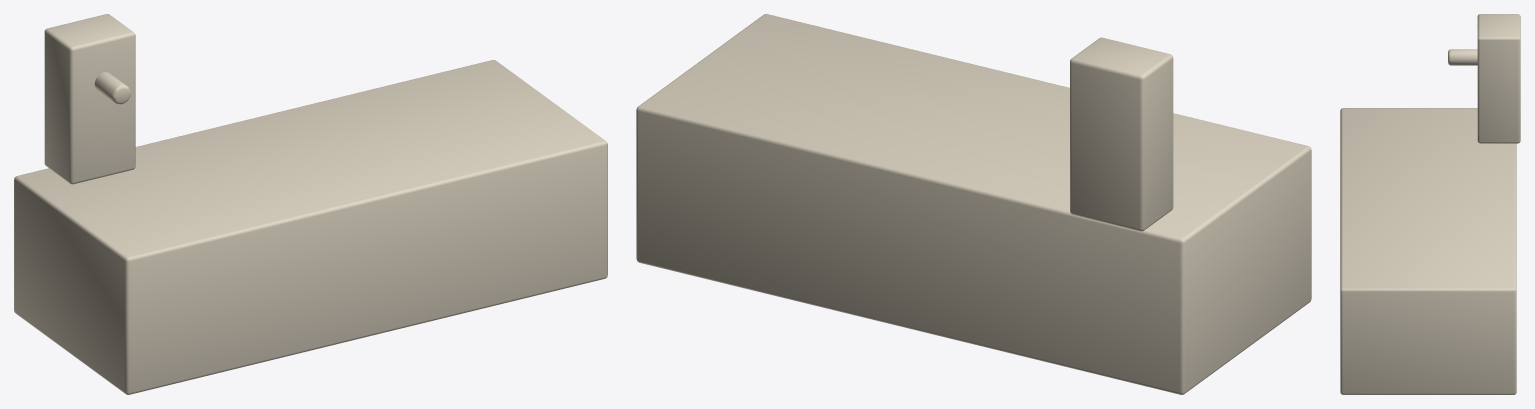
File: th6_brunnen_trog.glb
3 views of the same model, side by side, from view 1: azimuth 30°, elevation 25°; view 2: azimuth 150°, elevation 25°; view 3: azimuth 270°, elevation 25° (orthographic). The views are drawn at different scales.
Visible parts, largest first — view 1: Cube, Cube.002, Cylinder; view 2: Cube, Cube.002; view 3: Cube, Cube.002, Cylinder.
Part boxes in pixels (x1=…): Cube: x1=14, y1=60, x2=607, y2=394; Cube.002: x1=44, y1=14, x2=135, y2=184; Cylinder: x1=94, y1=72, x2=130, y2=104; Cube: x1=636, y1=14, x2=1311, y2=394; Cube.002: x1=1070, y1=37, x2=1173, y2=231; Cube: x1=1340, y1=108, x2=1516, y2=394; Cube.002: x1=1477, y1=14, x2=1520, y2=143; Cylinder: x1=1448, y1=49, x2=1477, y2=65.
Bounding box in the file's own units: 2.2 × 1.2 × 0.92.
